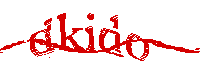d: (98, 10, 123, 59), (29, 18, 54, 57)
i: (83, 12, 97, 54)
k: (57, 13, 82, 53)
o: (123, 32, 150, 62)
